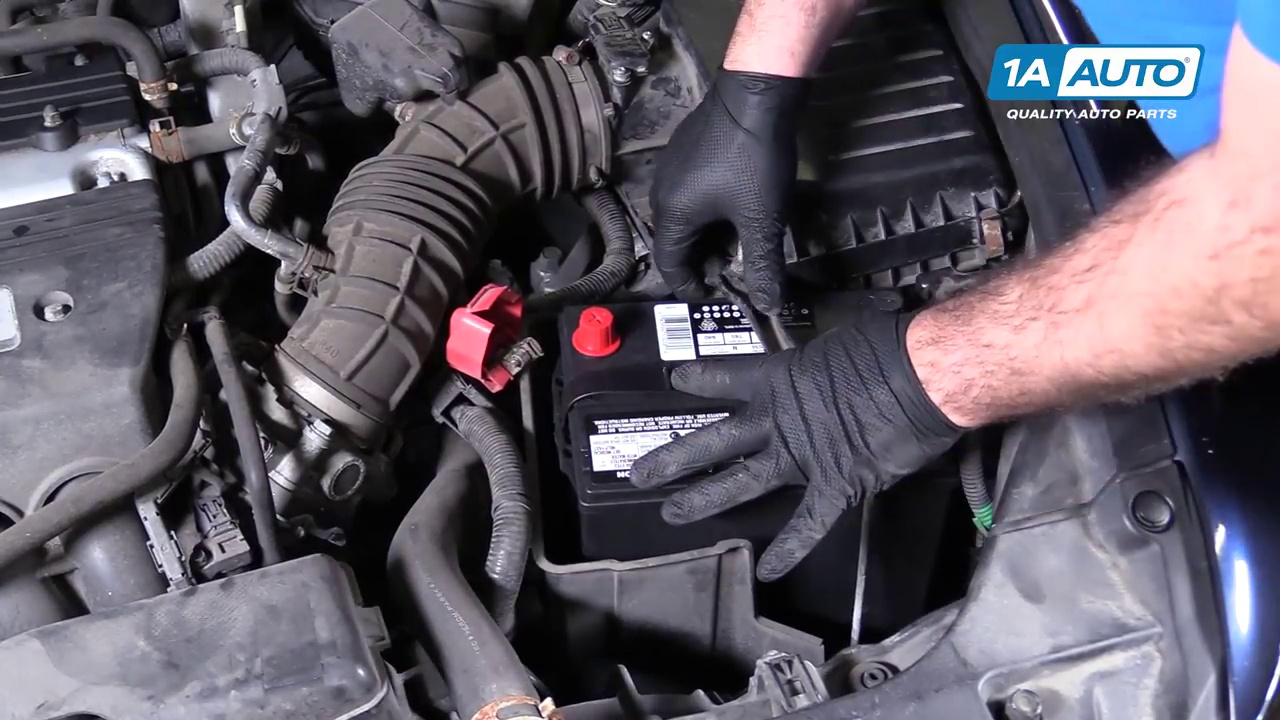battery: (555, 291, 925, 498)
pos_disconnected: (435, 266, 628, 400)
